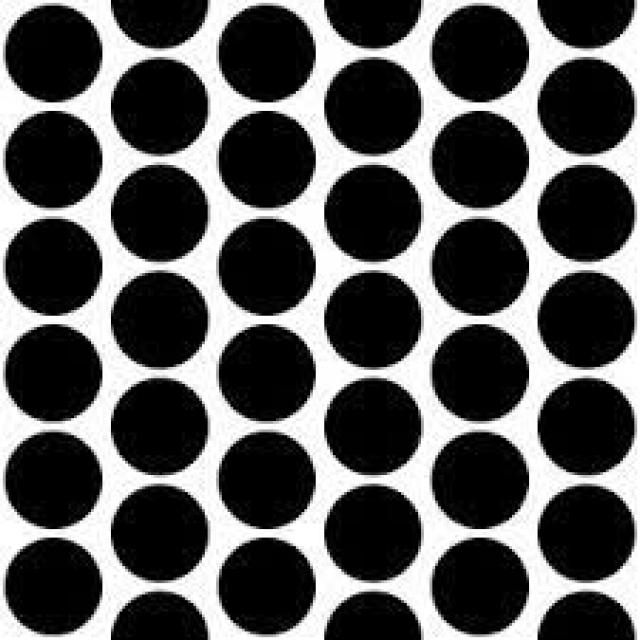circle: (100, 48, 218, 165), (524, 481, 640, 592), (211, 527, 324, 640), (0, 102, 108, 217), (426, 313, 534, 428), (419, 0, 534, 107), (533, 49, 640, 164), (0, 316, 108, 429), (211, 208, 324, 316), (423, 213, 536, 321), (105, 375, 216, 484), (104, 478, 216, 586), (213, 316, 320, 429), (320, 51, 428, 162), (2, 207, 106, 322), (105, 158, 212, 268), (533, 160, 640, 270), (322, 478, 428, 589), (532, 373, 640, 481), (533, 264, 638, 375), (217, 100, 319, 214), (320, 373, 425, 483), (105, 266, 208, 378), (423, 426, 533, 530), (325, 267, 430, 374), (318, 161, 426, 265), (3, 421, 102, 534), (432, 99, 528, 215), (2, 5, 114, 104), (3, 530, 108, 635), (217, 426, 318, 533), (428, 532, 527, 637), (216, 2, 316, 101)
